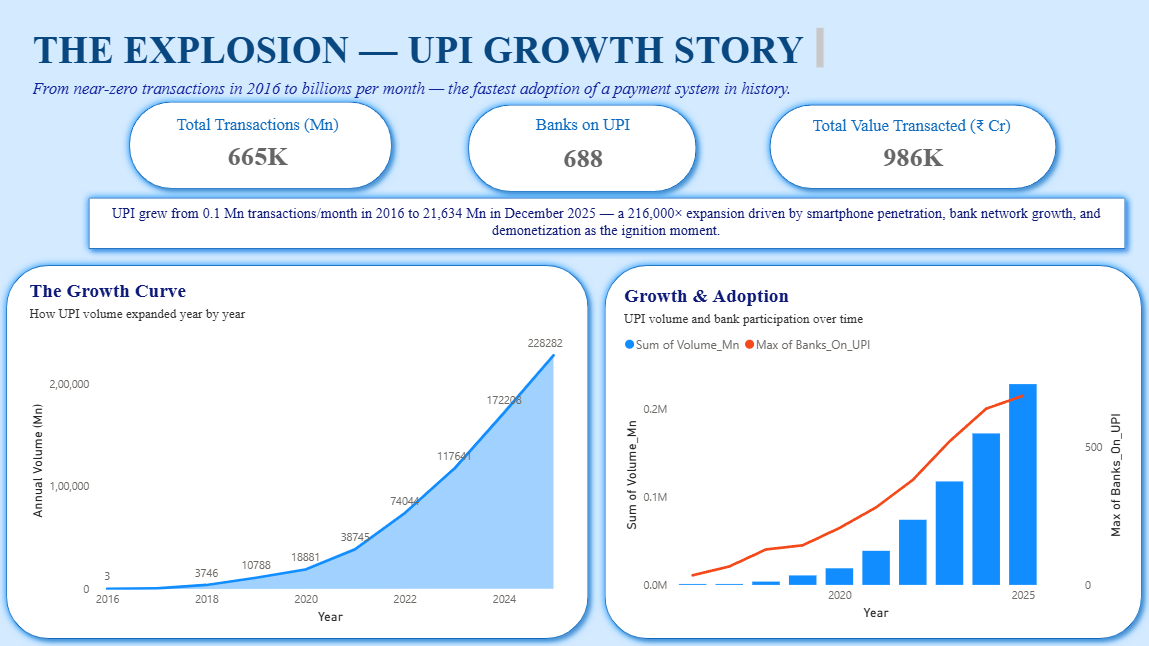

This screenshot's page, from the dashboard's own definition file:
{"tool":"powerbi","page":{"name":"The Explosion","canvas":[1280,720],"ordinal":1},"visuals":[{"type":"shape","box":[513.3,108.3,271.7,115],"z":0},{"type":"shape","box":[136.7,105,310,115],"z":1000},{"type":"shape","box":[848.3,108.3,336.7,111.7],"z":2000},{"type":"shape","box":[665,286.7,615,433.3],"z":3000},{"type":"shape","box":[0,286.7,665,433.3],"z":4000},{"type":"areaChart","title":"The Growth Curve","fields":{"Category":["UPI_Monthly.Year"],"Y":["UPI_Monthly.Annual Volume (Mn)"]},"box":[30,311.7,605,386.7],"z":5000},{"type":"card","title":"Total Transactions (Mn)","fields":{"Values":["Sum(UPI_Monthly.Volume_Mn)"]},"box":[176.7,128.3,223.3,70],"z":6000},{"type":"card","title":"Banks on UPI","fields":{"Values":["Max(UPI_Monthly.Banks_On_UPI)"]},"box":[550,128.3,200,75],"z":7000},{"type":"lineClusteredColumnComboChart","title":"Growth & Adoption","fields":{"Category":["UPI_Monthly.Month.Variation.Date Hierarchy.Year"],"Y":["Sum(UPI_Monthly.Volume_Mn)"],"Y2":["Max(UPI_Monthly.Banks_On_UPI)"]},"box":[685,311.7,575,388.3],"z":12000},{"type":"textbox","box":[34,25.9,889,56.7],"z":13000},{"type":"textbox","box":[34,82.6,934.3,45.3],"z":14000},{"type":"shape","box":[91.7,211.7,1170,75],"z":15000},{"type":"textbox","box":[115,223.3,1121.7,50],"z":16000},{"type":"card","title":"Total Value Transacted (₹ Cr)","fields":{"Values":["UPI_Monthly.Total Value Cr"]},"box":[900,130,233.3,68.3],"z":17000}]}

Visuals, with their boxes in screenshot pixels (x1, y1, x2, y2), scaled from the page's 1280x720 canvas onto the 1149x646 screenshot:
shape: rect(461, 97, 705, 200)
shape: rect(123, 94, 401, 197)
shape: rect(761, 97, 1064, 197)
shape: rect(597, 257, 1148, 645)
shape: rect(0, 257, 597, 645)
"The Growth Curve" areaChart: rect(27, 280, 570, 627)
"Total Transactions (Mn)" card: rect(159, 115, 359, 178)
"Banks on UPI" card: rect(494, 115, 673, 182)
"Growth & Adoption" lineClusteredColumnComboChart: rect(615, 280, 1131, 628)
textbox: rect(31, 23, 829, 74)
textbox: rect(31, 74, 869, 115)
shape: rect(82, 190, 1133, 257)
textbox: rect(103, 200, 1110, 245)
"Total Value Transacted (₹ Cr)" card: rect(808, 117, 1017, 178)
